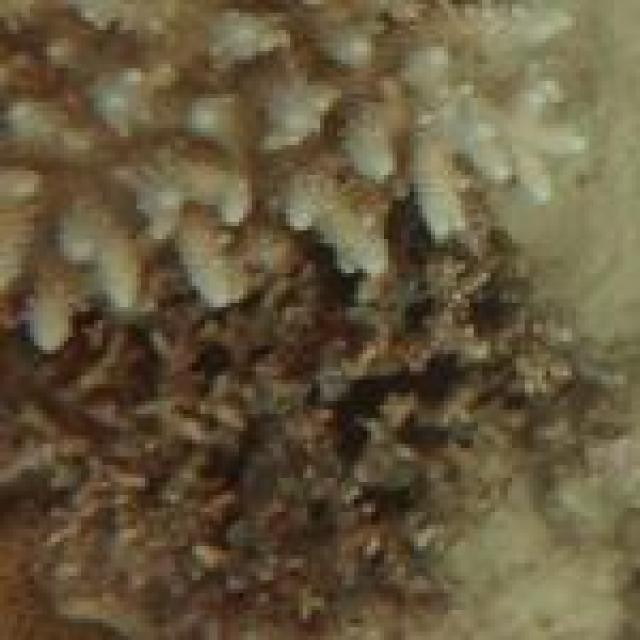Bleached Coral: (401, 0, 592, 214)
